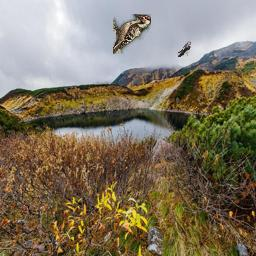Sparrow: (15, 203, 29, 223)
Swallow: (177, 41, 191, 57)
Woodpecker: (113, 14, 151, 54)
